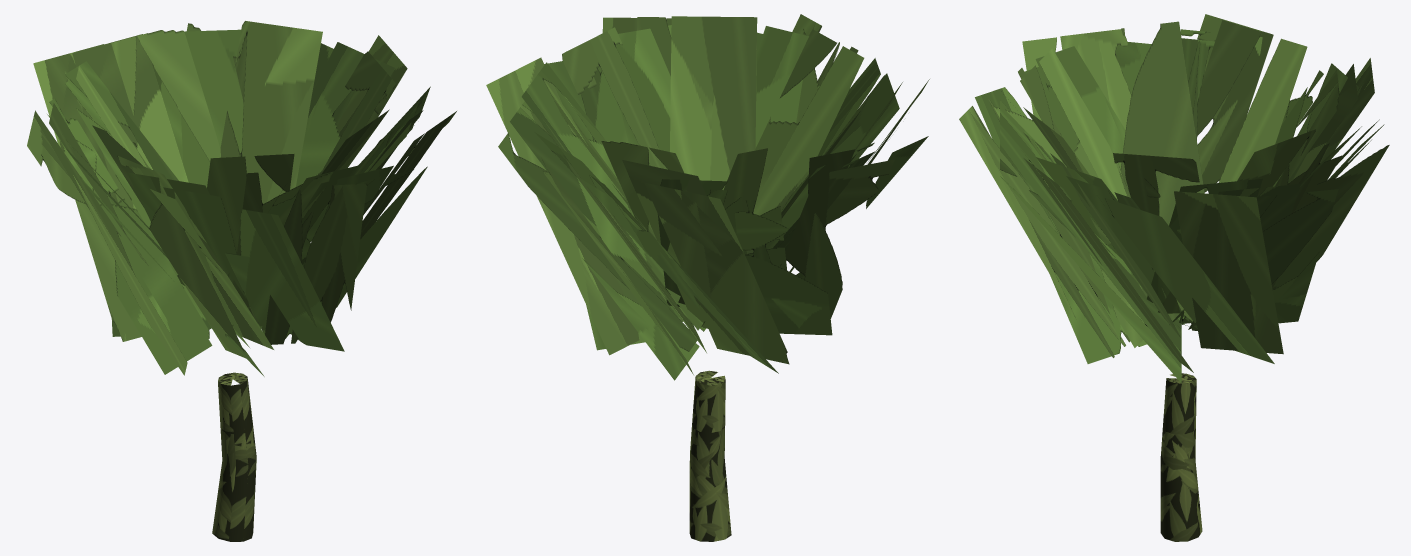
The model's file is nature.tree.banana.glb.
The picture shows the model from 3 angles, left to right: view 1: azimuth 30°, elevation 25°; view 2: azimuth 150°, elevation 25°; view 3: azimuth 270°, elevation 25°; orthographic projection.
Visible parts, largest first — view 1: nature.tree.banana; view 2: nature.tree.banana; view 3: nature.tree.banana.
Part boxes in pixels (bbox=[...]): nature.tree.banana: bbox=[27, 21, 456, 541]; nature.tree.banana: bbox=[486, 14, 929, 541]; nature.tree.banana: bbox=[959, 14, 1389, 541].
Bounding box in the file's own units: 3.76 × 4.19 × 3.75.
Materials: 3 (3 with a texture image).
